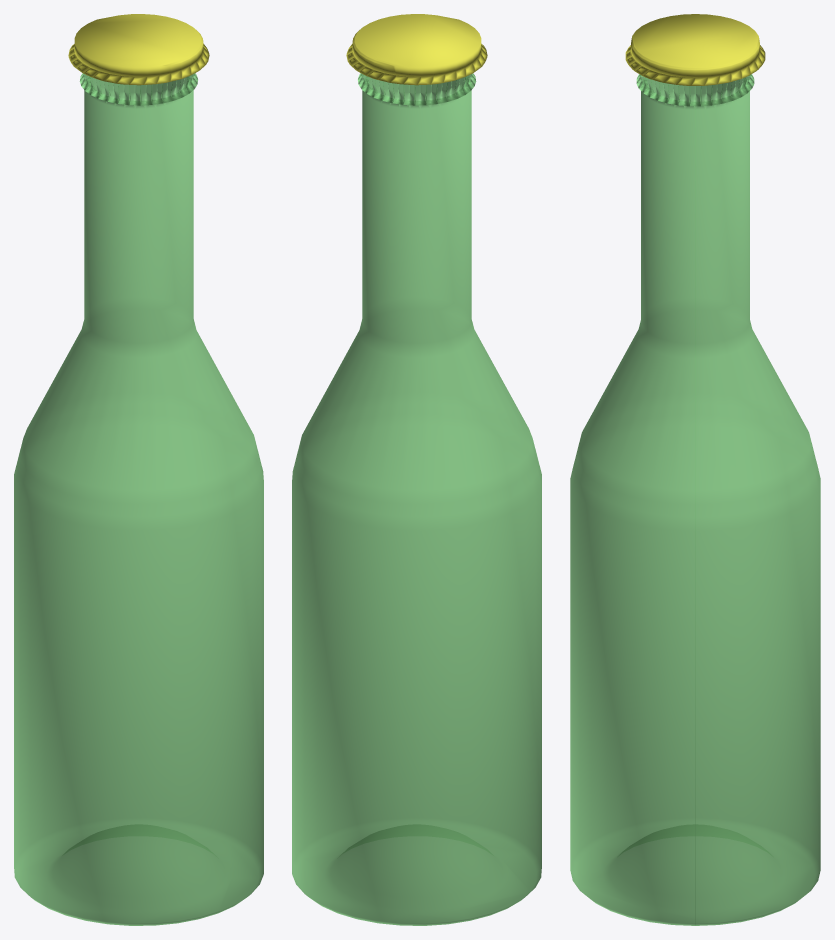
File: botellon.glb
The picture shows the model from 3 angles, left to right: view 1: azimuth 30°, elevation 25°; view 2: azimuth 150°, elevation 25°; view 3: azimuth 270°, elevation 25°; orthographic projection.
Visible parts, largest first — view 1: Cylinder, Cylinder.001; view 2: Cylinder, Cylinder.001; view 3: Cylinder, Cylinder.001.
Boxes of the visible parts, <box> form: Cylinder: <box>14,73,263,925</box>; Cylinder.001: <box>68,14,209,85</box>; Cylinder: <box>292,73,541,925</box>; Cylinder.001: <box>346,14,487,85</box>; Cylinder: <box>570,74,820,925</box>; Cylinder.001: <box>625,14,765,85</box>.
Size of the model in its own units: 2 by 7.36 by 2.
